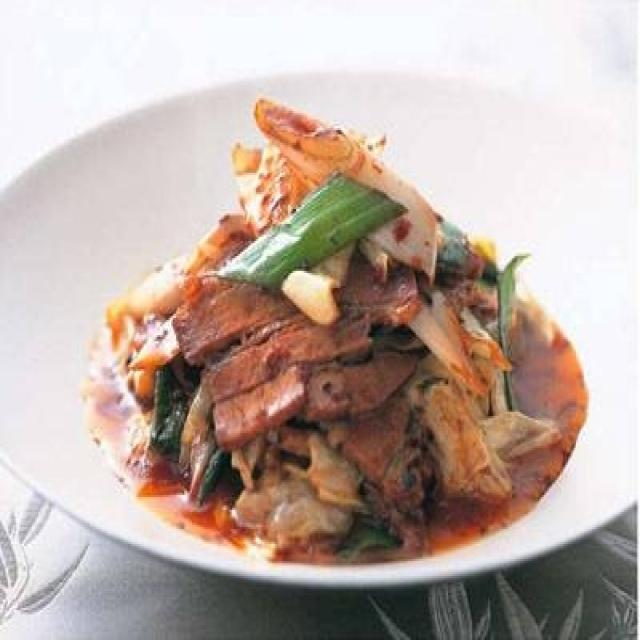猪肉菜式: (91, 135, 586, 546)
